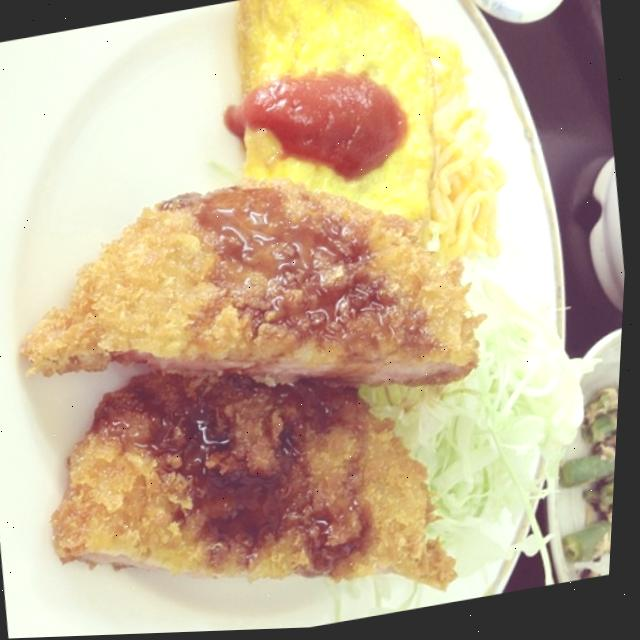炸货点心: (0, 126, 525, 639)
